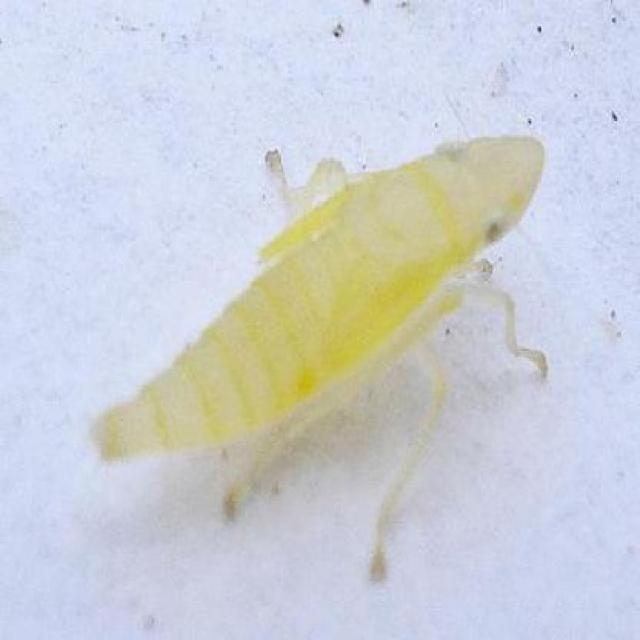green-leafhopper: (93, 131, 550, 575)
